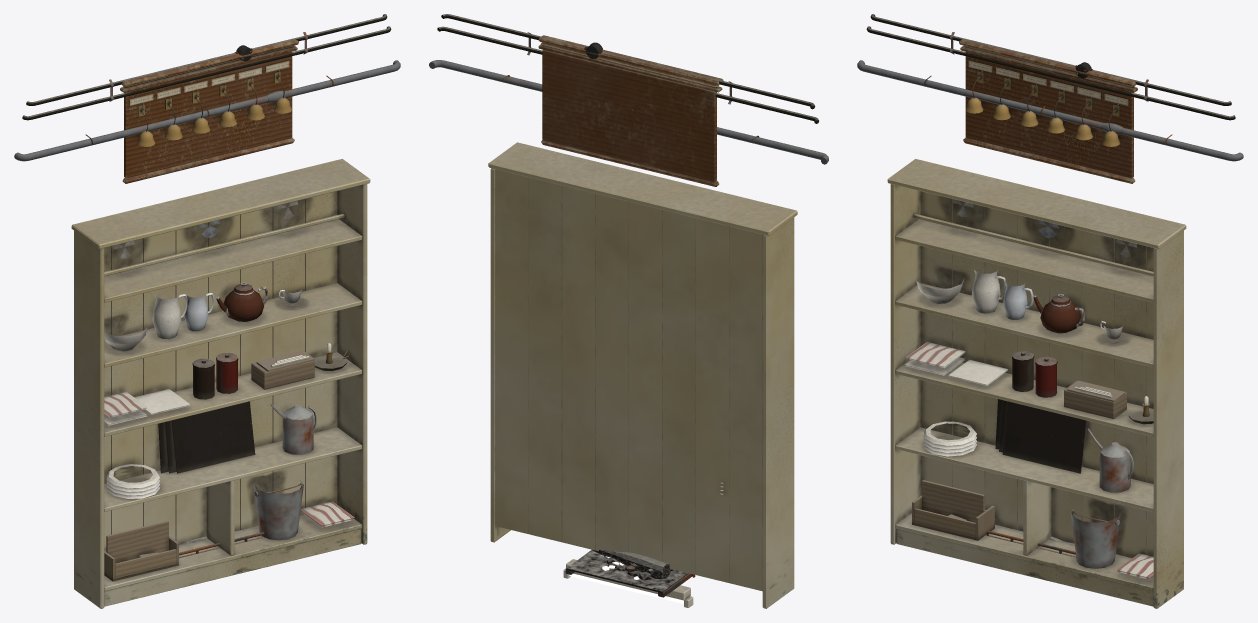
The model's file is common.glb.
3 renders of one model, left to right at view 1: azimuth 30°, elevation 25°; view 2: azimuth 150°, elevation 25°; view 3: azimuth 330°, elevation 25°, orthographic. The views are drawn at different scales.
Visible parts, largest first — view 1: Band_service_shelf, Band_bell_board, Band_conduit; view 2: Band_service_shelf, Band_bell_board, Band_conduit, Fix_fire_embers, Fix_batten_light; view 3: Band_service_shelf, Band_bell_board, Band_conduit.
Part boxes in pixels (x1,y1,x2,y2): Band_service_shelf: (71, 159, 370, 608); Band_bell_board: (120, 39, 298, 183); Band_conduit: (14, 14, 400, 161); Band_service_shelf: (488, 142, 797, 608); Band_bell_board: (538, 35, 723, 186); Band_conduit: (429, 14, 828, 164); Fix_fire_embers: (565, 549, 695, 597); Fix_batten_light: (563, 559, 693, 607); Band_service_shelf: (887, 159, 1186, 608); Band_bell_board: (959, 39, 1137, 183); Band_conduit: (857, 14, 1243, 161).
Size of the model in its own units: 1.98 by 2.55 by 0.37.
5 materials, 4 textured.
